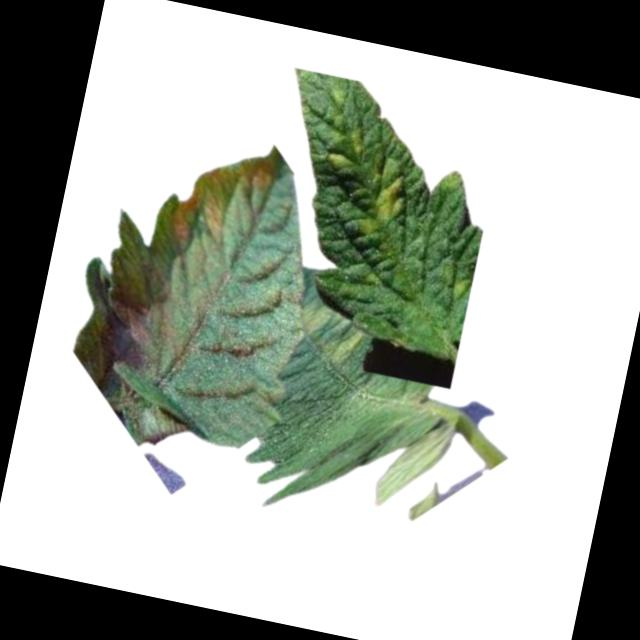Leaf_Mold: (158, 134, 280, 269), (351, 158, 413, 245), (290, 299, 367, 369), (322, 116, 373, 179)
